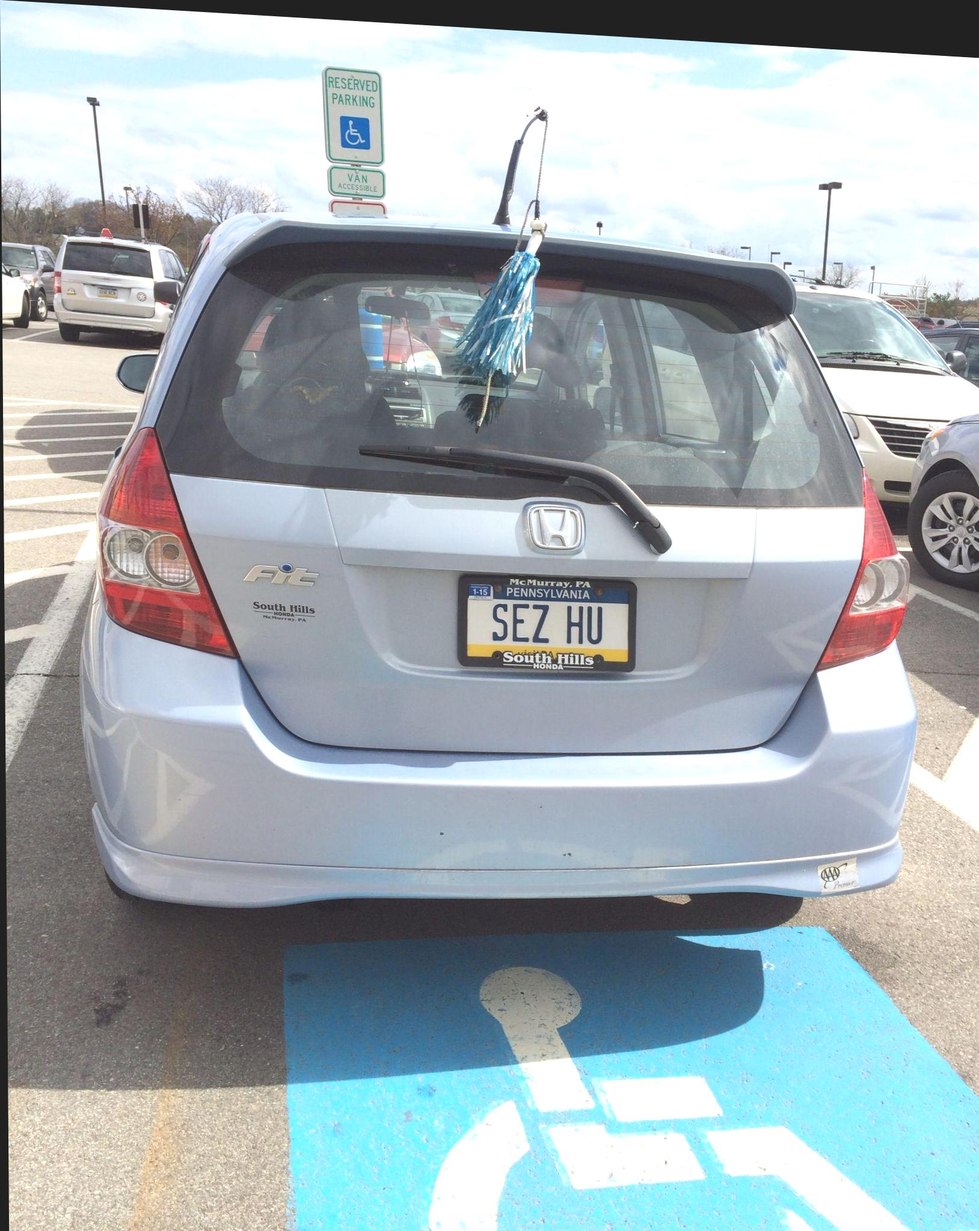License_Plate: (446, 551, 653, 702)
